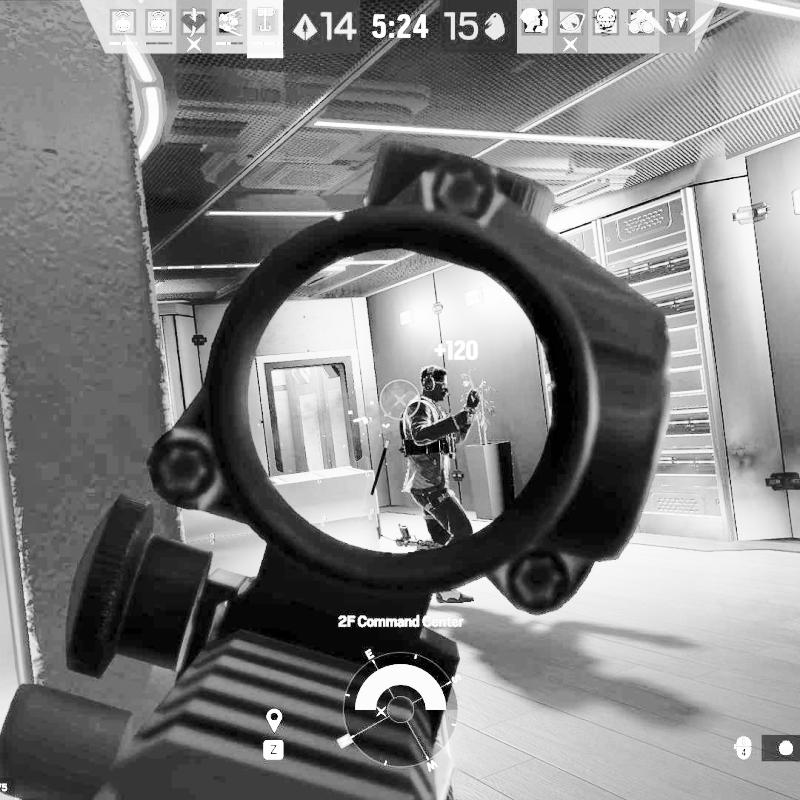Character: (396, 363, 485, 606)
Head: (418, 364, 452, 401)
